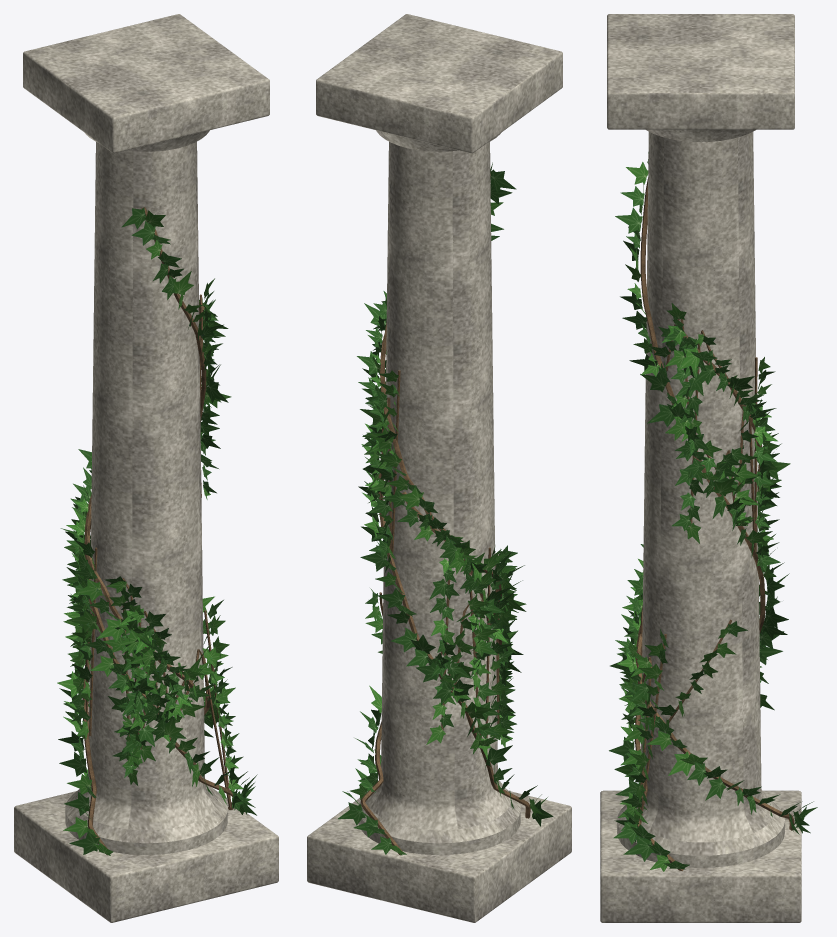
The model's file is ivy-wrapped-column.glb.
The picture shows the model from 3 angles, left to right: view 1: azimuth 30°, elevation 25°; view 2: azimuth 150°, elevation 25°; view 3: azimuth 270°, elevation 25°; orthographic projection. The views are drawn at different scales.
Parts seen in each view (by area): view 1: Ivy_Wrapped_Column; view 2: Ivy_Wrapped_Column; view 3: Ivy_Wrapped_Column.
Boxes of the visible parts, <box> form: Ivy_Wrapped_Column: <box>14,14,278,922</box>; Ivy_Wrapped_Column: <box>307,14,571,922</box>; Ivy_Wrapped_Column: <box>600,14,817,922</box>.
Bounding box in the file's own units: 0.7019 × 2.72 × 0.6624.
4 materials, 4 textured.
